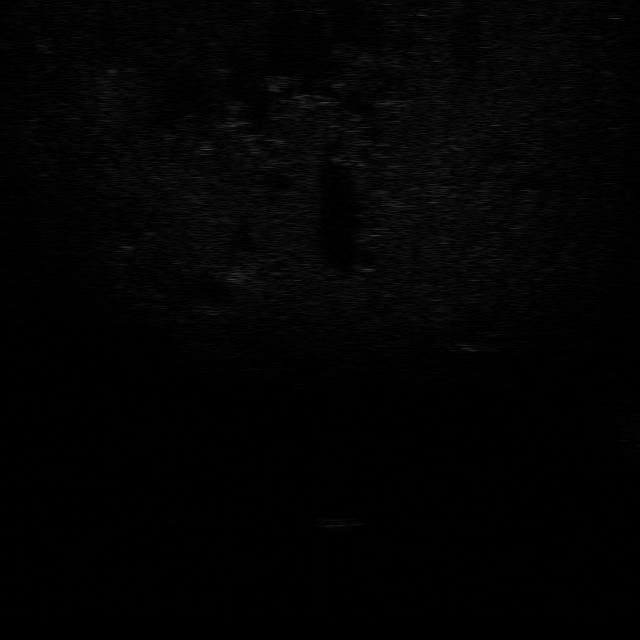cube: (314, 517, 366, 529)
square cage: (450, 341, 500, 355)
